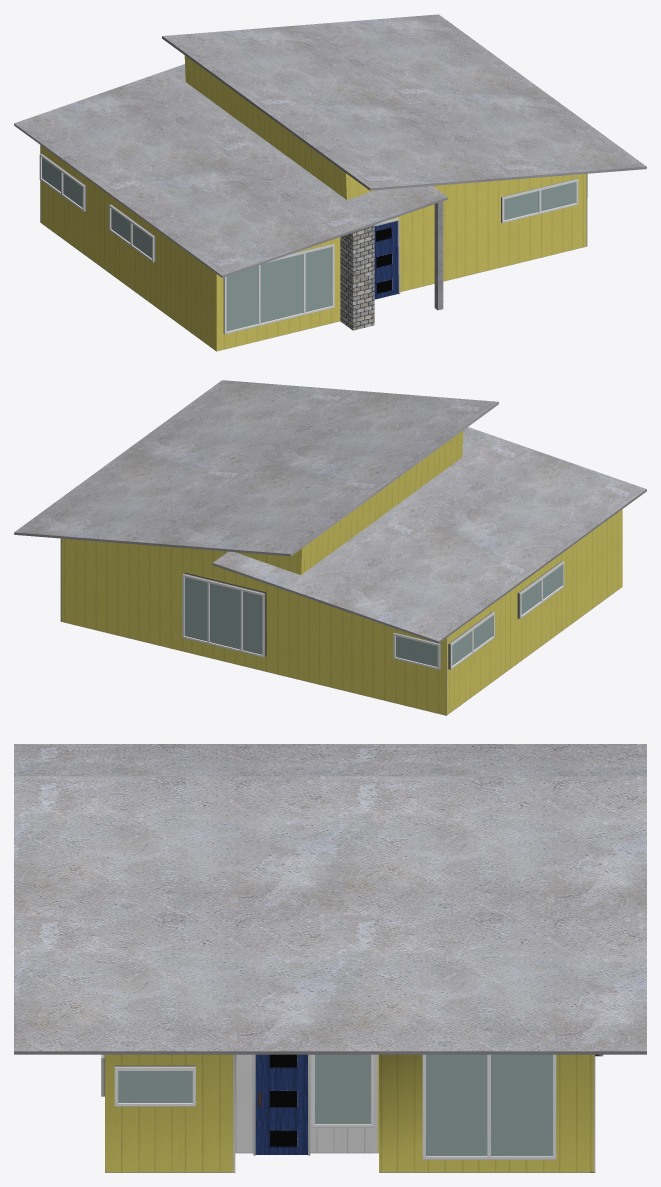
The model's file is 50s_House_Yellow.glb.
3 views of the same model, one above another, from view 1: azimuth 30°, elevation 25°; view 2: azimuth 150°, elevation 25°; view 3: azimuth 270°, elevation 25° (orthographic). The views are drawn at different scales.
Bounding box in the file's own units: 12.75 × 4.02 × 10.82.
4 materials, 4 textured.
